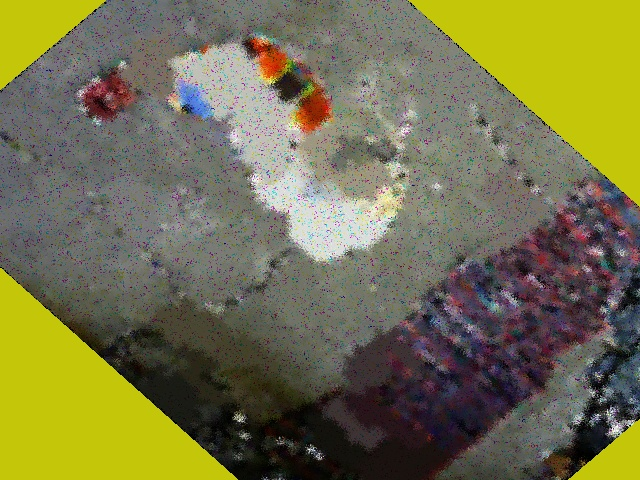eight: (358, 130, 417, 183)
